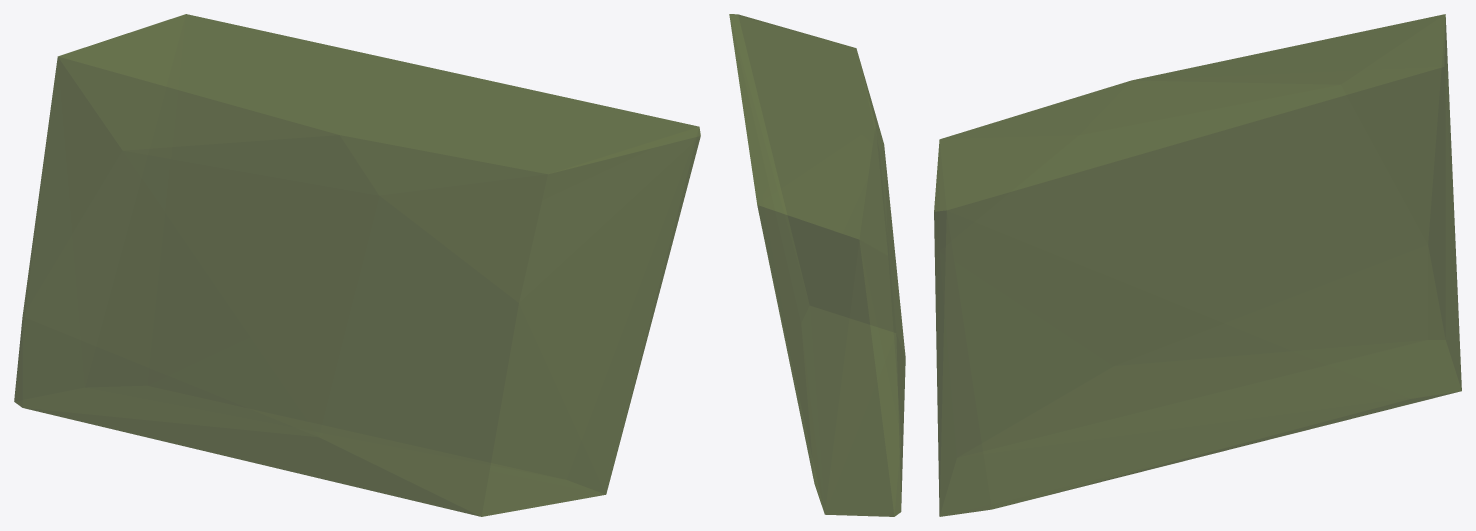
The picture shows the model from 3 angles, left to right: view 1: azimuth 30°, elevation 25°; view 2: azimuth 150°, elevation 25°; view 3: azimuth 270°, elevation 25°; orthographic projection. The views are drawn at different scales.
Parts seen in each view (by area): view 1: Shape_IndexedFaceSet.020_Shape_IndexedFaceSet.14696; view 2: Shape_IndexedFaceSet.020_Shape_IndexedFaceSet.14696; view 3: Shape_IndexedFaceSet.020_Shape_IndexedFaceSet.14696.
Boxes of the visible parts, x1=… form: Shape_IndexedFaceSet.020_Shape_IndexedFaceSet.14696: x1=14, y1=14, x2=700, y2=516; Shape_IndexedFaceSet.020_Shape_IndexedFaceSet.14696: x1=729, y1=14, x2=905, y2=516; Shape_IndexedFaceSet.020_Shape_IndexedFaceSet.14696: x1=934, y1=14, x2=1461, y2=516.
Size of the model in its own units: 0.0844 by 0.0646 by 0.0833.
